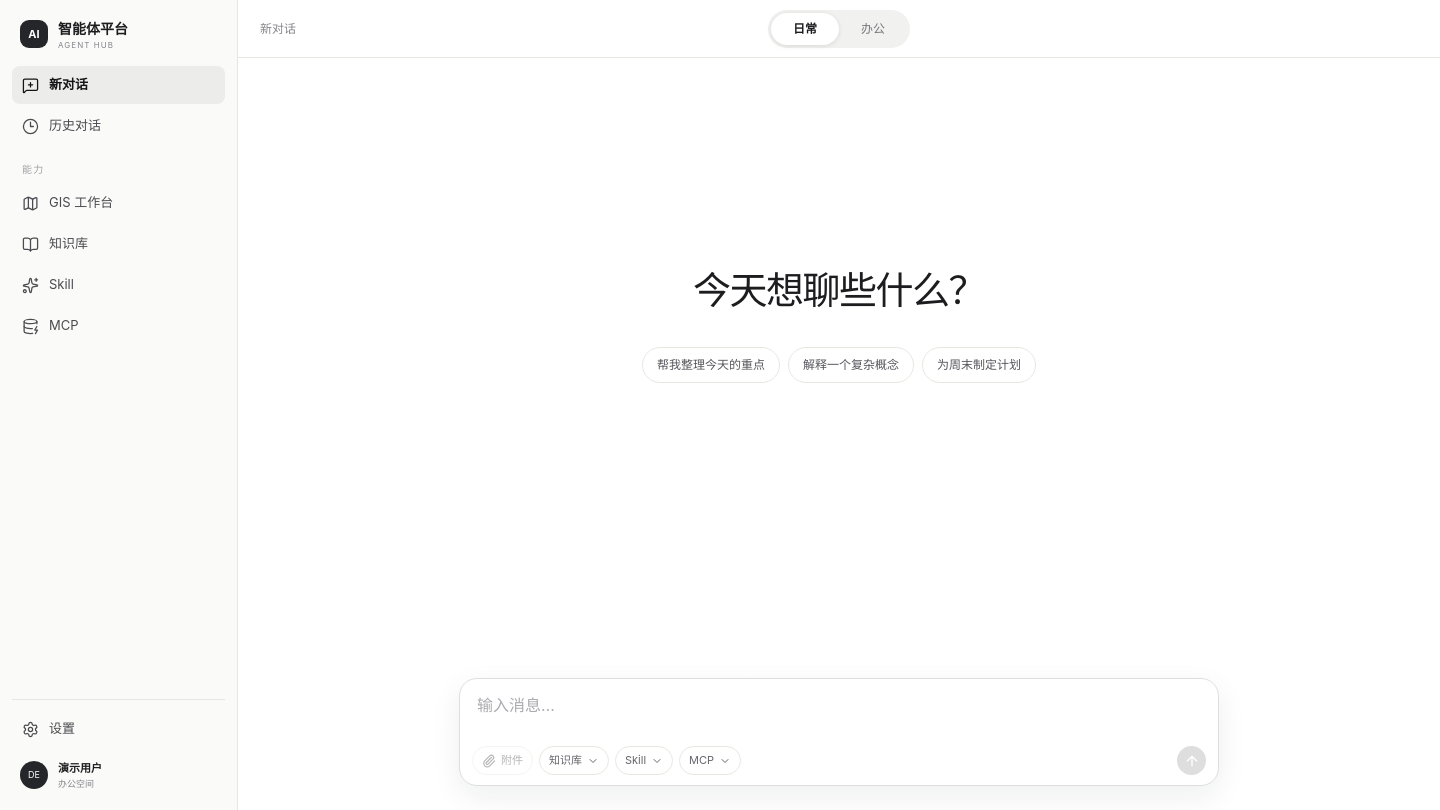
ChatPage › streams final Markdown and collapses completed activity steps
Type "分析本周风险" into the text box labelled "消息" at [839, 718], box [472,690,1206,746]
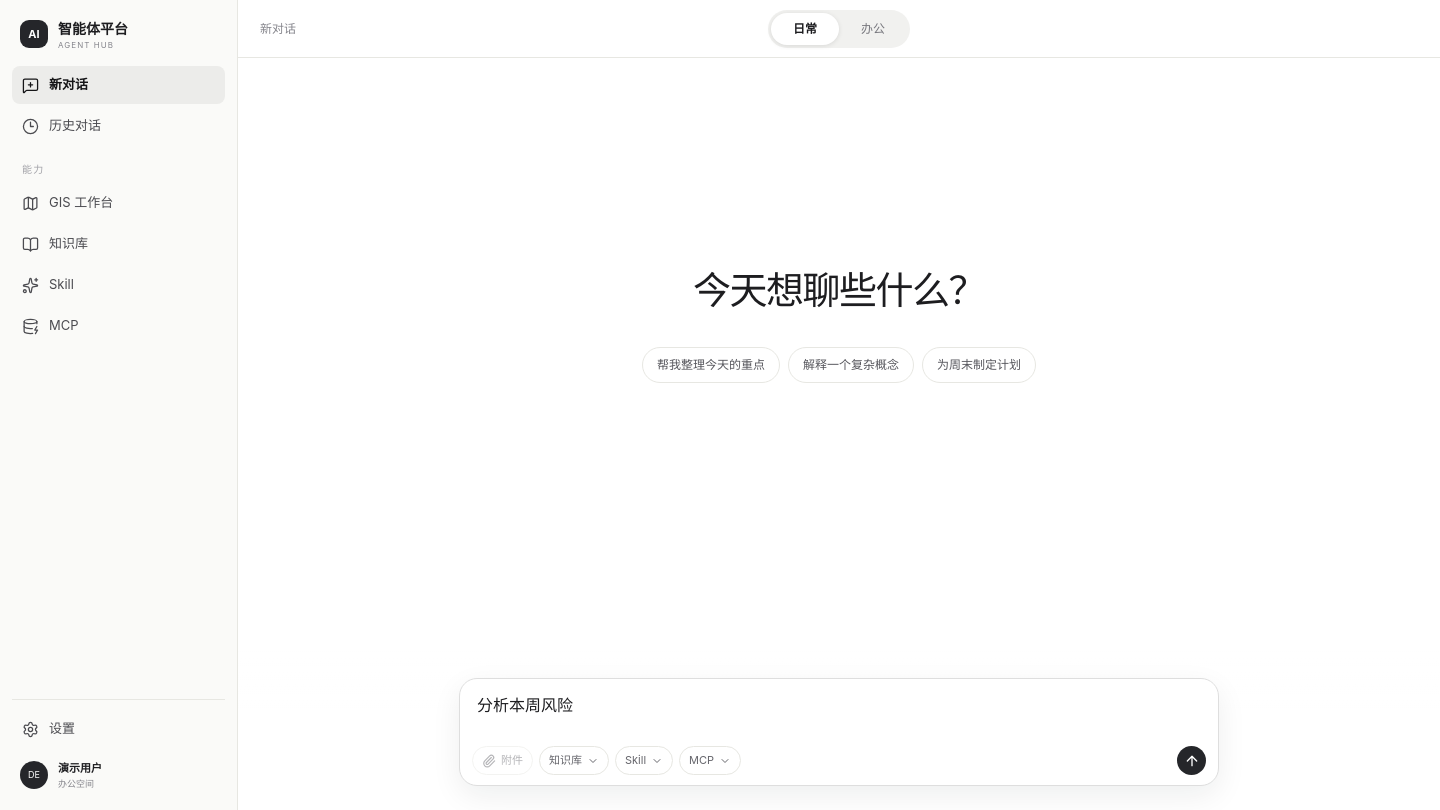
Click the button named "发送" at [1192, 760], box [1177,746,1206,775]
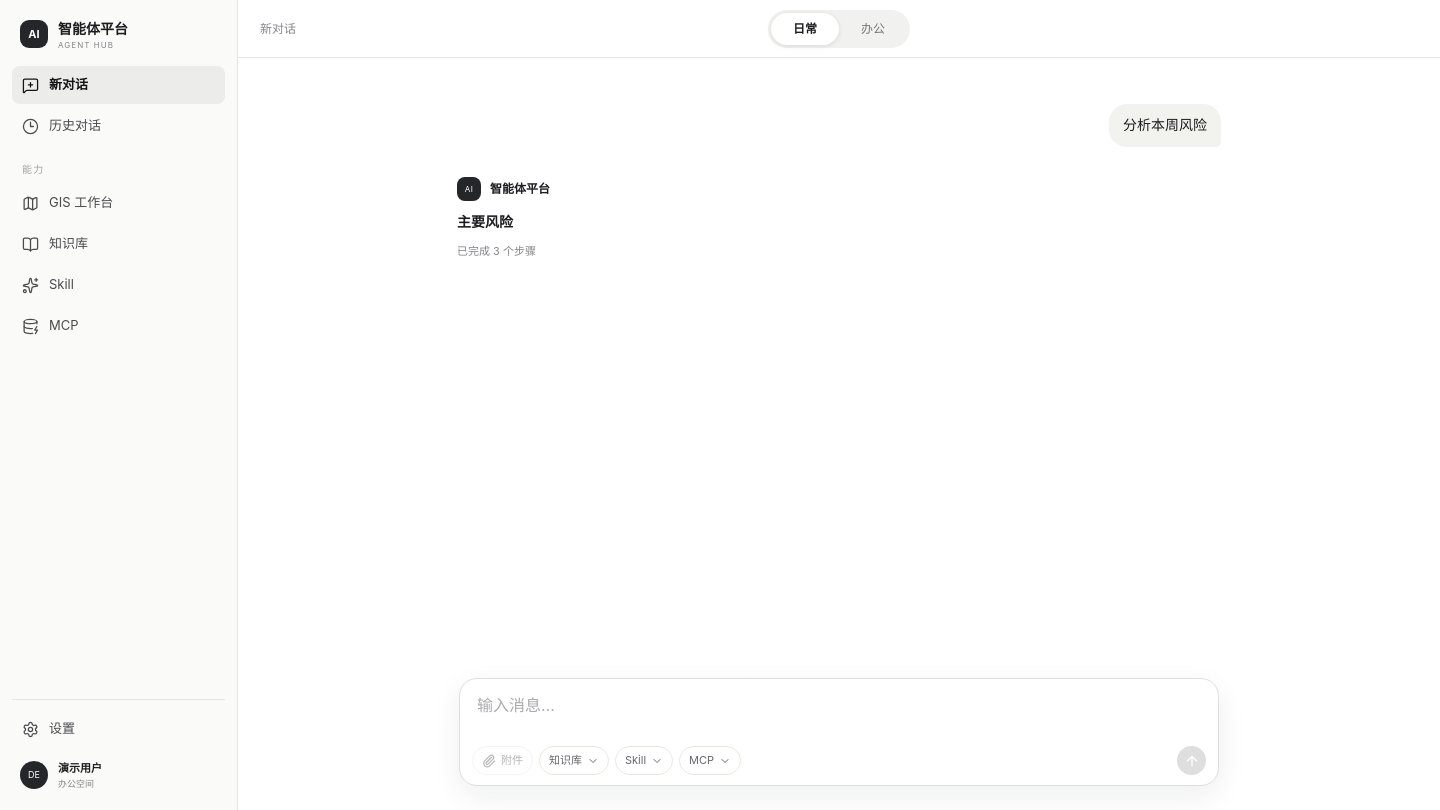
Now the text "主要风险" is shown, box [457,212,513,230]
Now the button "已完成 3 个步骤" is shown, box [457,234,536,261]
